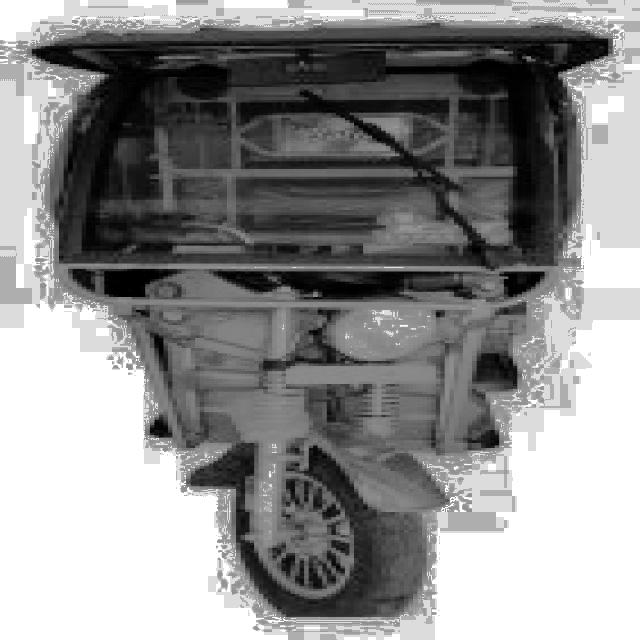Toto: (29, 14, 587, 618)
